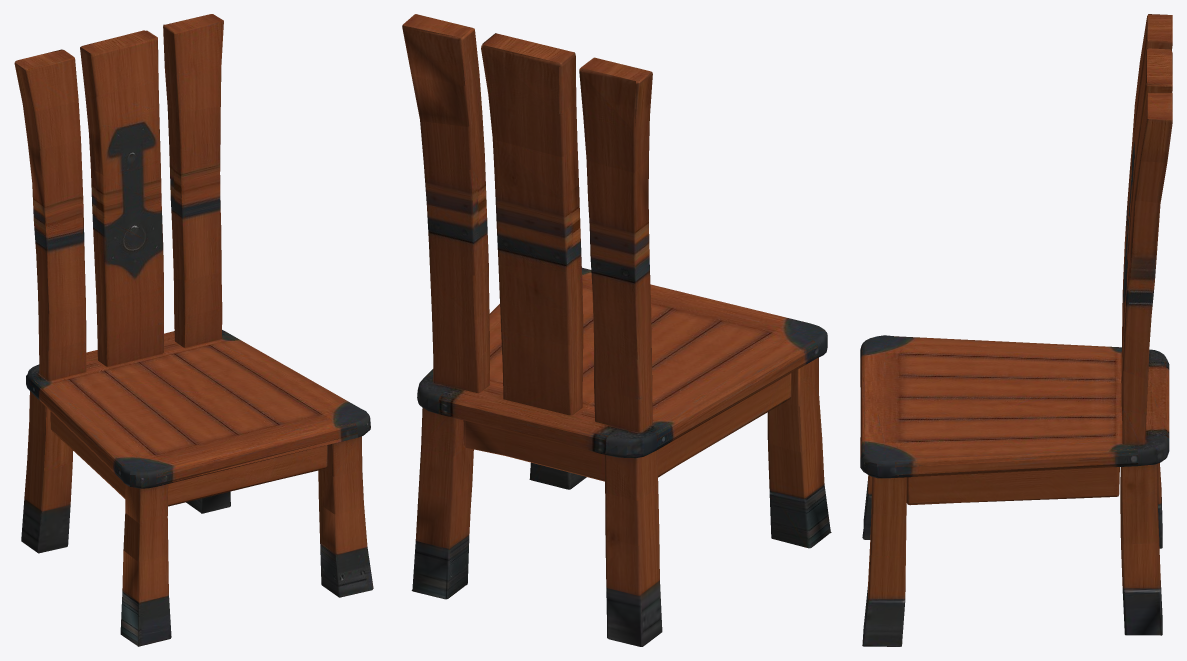
Rendered from chair.glb.
The picture shows the model from 3 angles, left to right: view 1: azimuth 30°, elevation 25°; view 2: azimuth 150°, elevation 25°; view 3: azimuth 270°, elevation 25°; orthographic projection. The views are drawn at different scales.
Bounding box in the file's own units: 0.5065 × 0.95 × 0.5195.
1 material, 1 textured.
